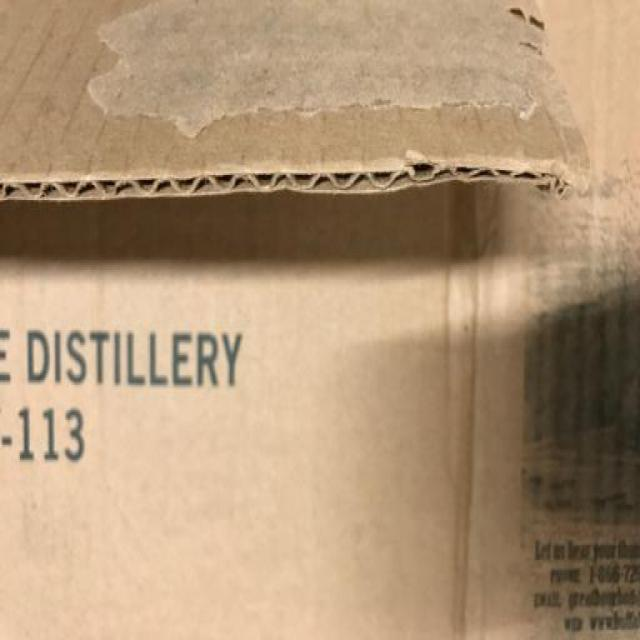cardboard: (3, 1, 640, 639)
